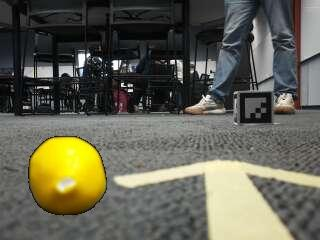lemon: (28, 136, 104, 214)
